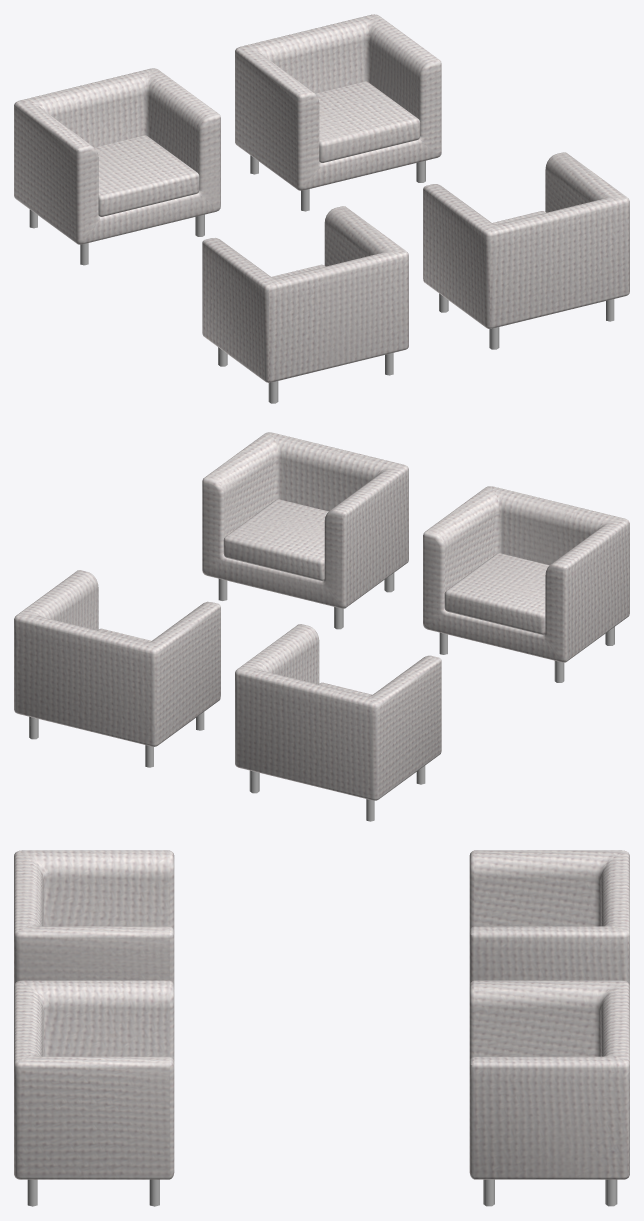
File: Sofa_Set_01.fbx
The picture shows the model from 3 angles, top to bottom: view 1: azimuth 30°, elevation 25°; view 2: azimuth 150°, elevation 25°; view 3: azimuth 270°, elevation 25°; orthographic projection. The views are drawn at different scales.
Visible parts, largest first — view 1: Sofa, Sofa1, Sofa3, Sofa2; view 2: Sofa2, Sofa3, Sofa, Sofa1; view 3: Sofa1, Sofa2, Sofa3, Sofa.
Part boxes in pixels (x1,y1,x2,y2): Sofa: (14,68,220,265); Sofa1: (235,14,441,211); Sofa3: (202,206,408,403); Sofa2: (423,152,629,349); Sofa2: (202,432,408,629); Sofa3: (423,486,629,682); Sofa: (235,624,441,821); Sofa1: (14,570,220,767); Sofa1: (469,980,629,1206); Sofa2: (14,980,174,1206); Sofa3: (14,850,174,985); Sofa: (469,850,629,985).
Size of the model in its own units: 303 by 97.44 by 366.
Materials: 2 (1 with a texture image).
